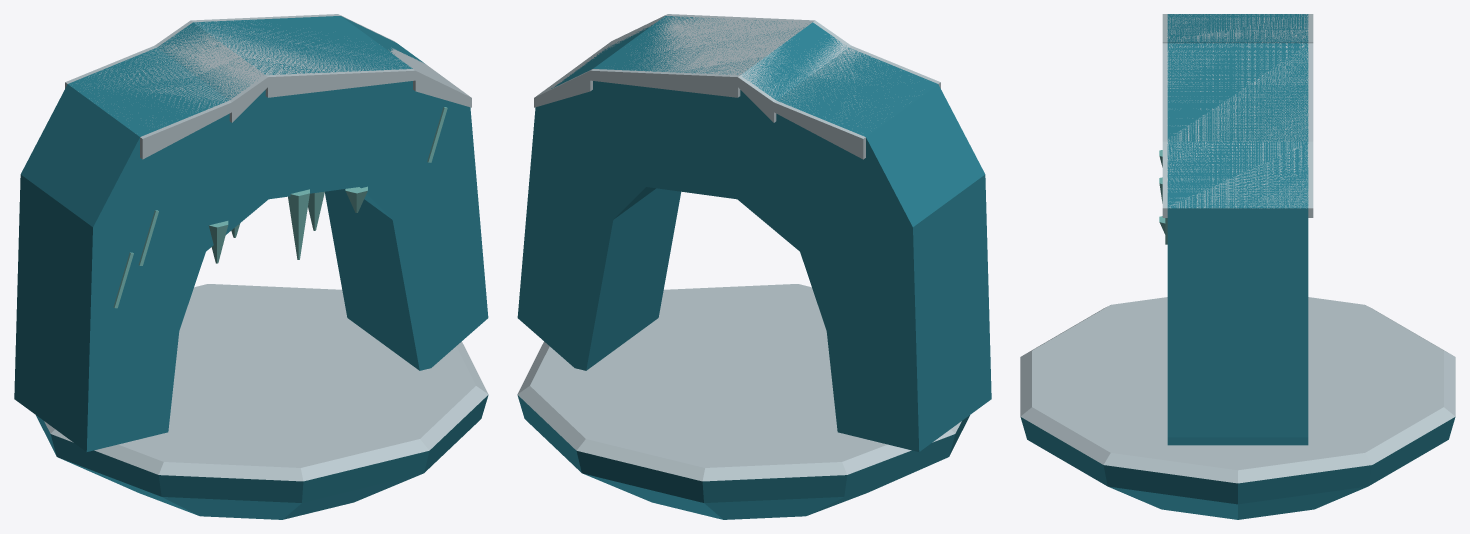
Rendered from glacier_arch.glb.
The picture shows the model from 3 angles, left to right: view 1: azimuth 30°, elevation 25°; view 2: azimuth 150°, elevation 25°; view 3: azimuth 270°, elevation 25°; orthographic projection. The views are drawn at different scales.
Parts seen in each view (by area): view 1: glacier_arch; view 2: glacier_arch; view 3: glacier_arch.
Part boxes in pixels (bbox=[...]): glacier_arch: bbox=[14, 14, 488, 519]; glacier_arch: bbox=[517, 14, 991, 519]; glacier_arch: bbox=[1020, 14, 1455, 519].
Size of the model in its own units: 13 by 12.85 by 12.36.
